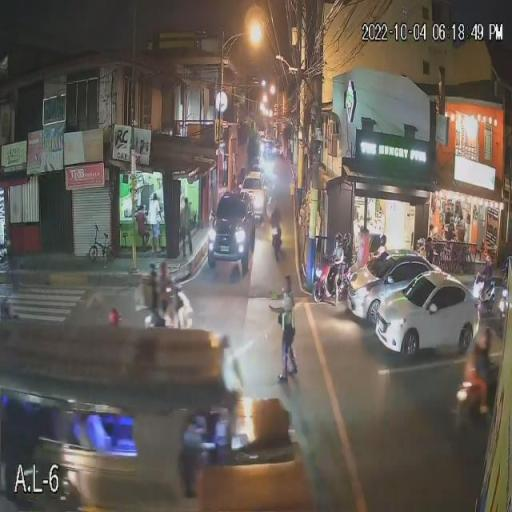helmet: (476, 326, 490, 344), (146, 261, 160, 276), (108, 307, 121, 322), (480, 254, 492, 267), (156, 262, 170, 273), (333, 232, 343, 242)
motorcycle: (470, 264, 512, 324), (454, 365, 492, 428), (142, 284, 192, 330), (310, 254, 348, 305), (268, 222, 285, 263)
rider: (465, 328, 493, 396), (152, 260, 175, 322), (478, 253, 502, 301), (330, 233, 348, 281), (268, 206, 282, 246)
